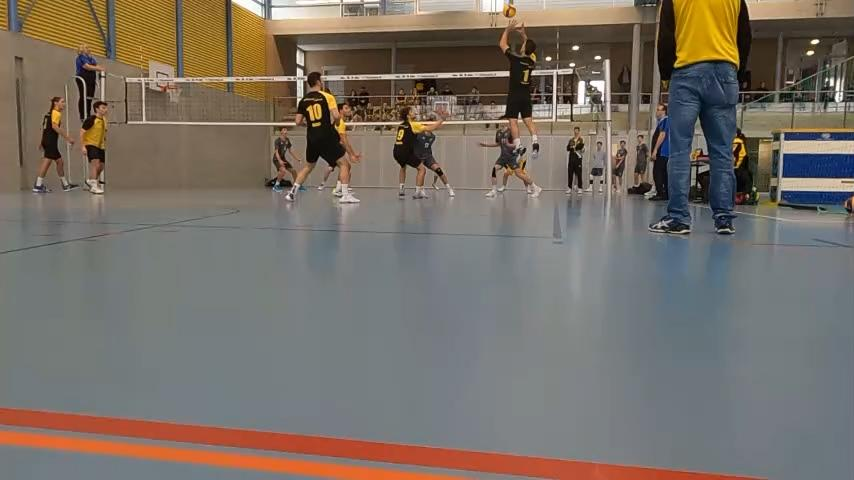alzata: (499, 15, 543, 167)
